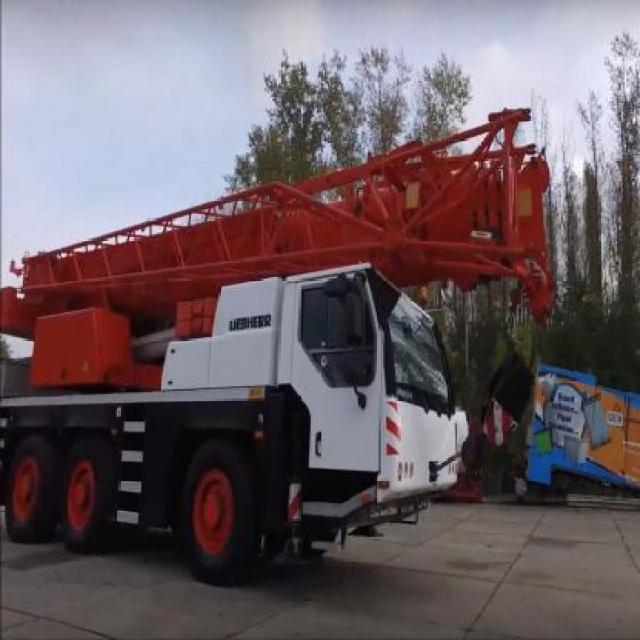Mobile Crane: (0, 120, 549, 585)
